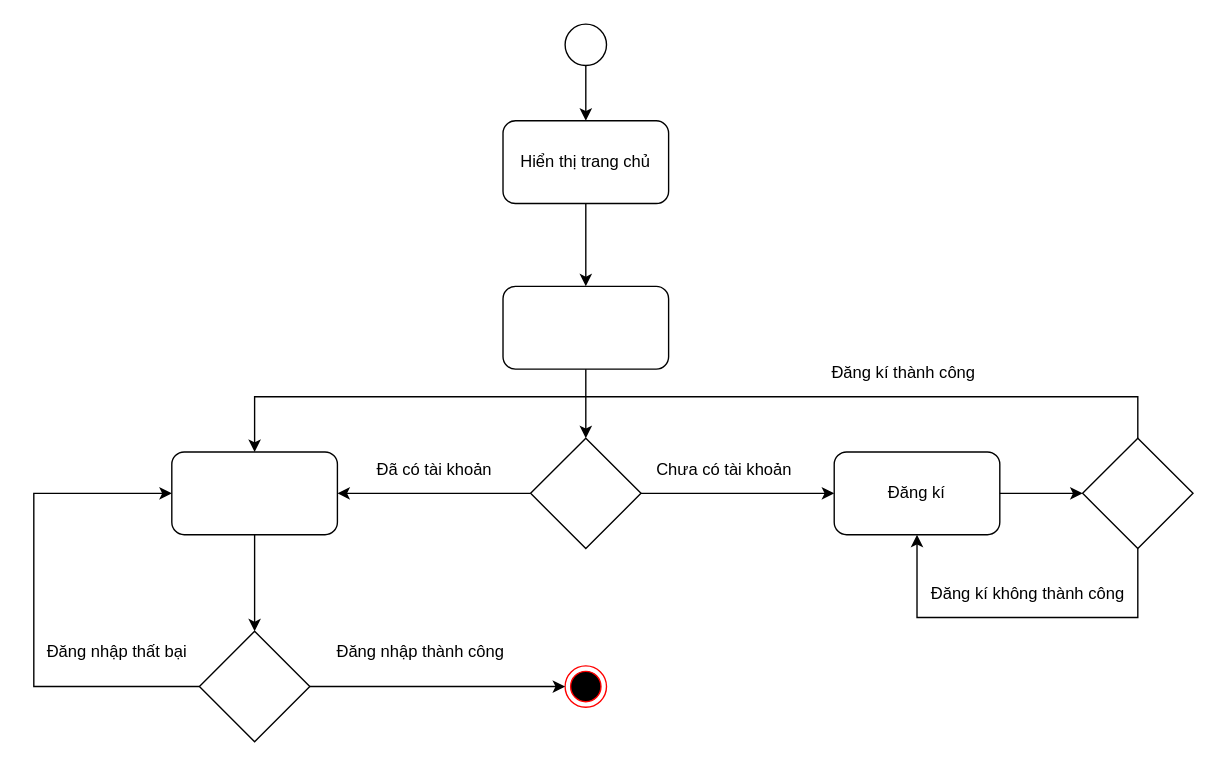
The diagram is 1217 pixels wide and 766 high, and some of its shapes have lost their labels. The box of each missing label's shape, as (x1, y1, x2, y2) in pixels:
Hiển thị trang đăng nhập: (502, 285, 669, 369)
Đăng nhập: (170, 451, 337, 535)
